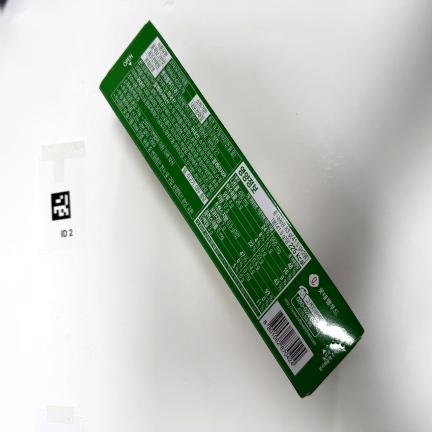cracker_vege: (100, 21, 363, 397)
